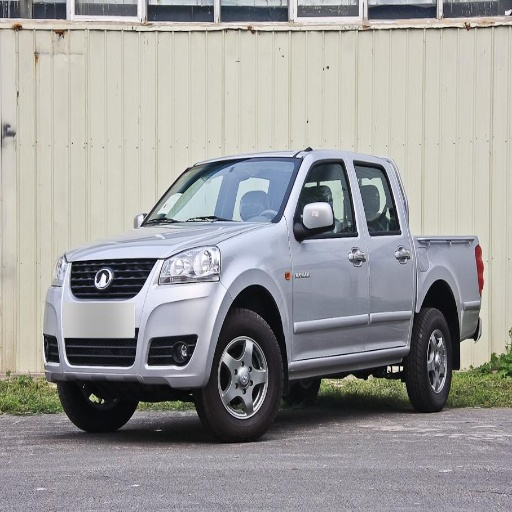back_left_door: (354, 159, 411, 346)
front_bumper: (41, 258, 231, 383)
front_glass: (142, 159, 300, 224)
front_left_door: (292, 158, 367, 359)
trunk: (416, 239, 486, 337)
